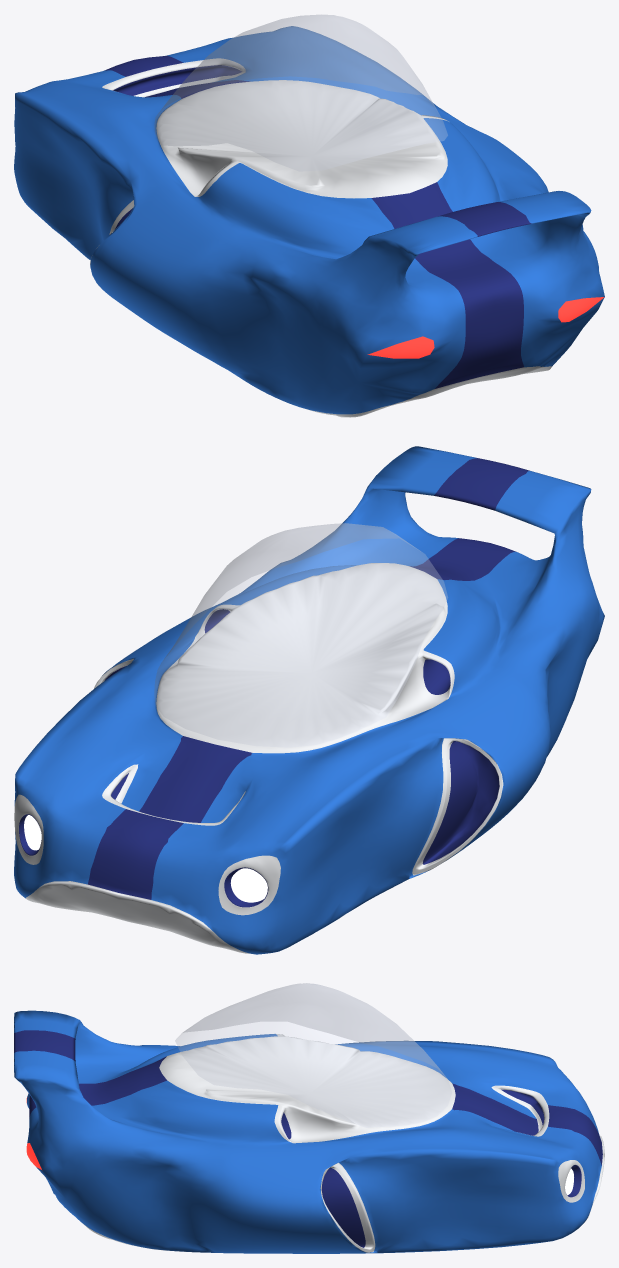
File: v5-bubble.glb
The picture shows the model from 3 angles, top to bottom: view 1: azimuth 30°, elevation 25°; view 2: azimuth 150°, elevation 25°; view 3: azimuth 270°, elevation 25°; orthographic projection. The views are drawn at different scales.
Visible parts, largest first — view 1: Body.001, Canopy; view 2: Body.001, Canopy; view 3: Body.001, Canopy.
Part boxes in pixels (x1,y1,x2,y2): Body.001: [14, 26, 604, 417]; Canopy: [154, 14, 447, 171]; Body.001: [14, 446, 604, 954]; Canopy: [154, 523, 447, 747]; Body.001: [14, 1010, 604, 1253]; Canopy: [175, 983, 451, 1127].
Size of the model in its own units: 2.26 by 1.47 by 3.69.
